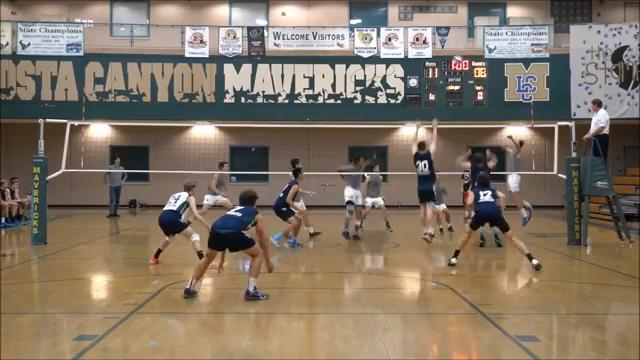attacco: (501, 134, 537, 226)
muro: (403, 115, 444, 249)
